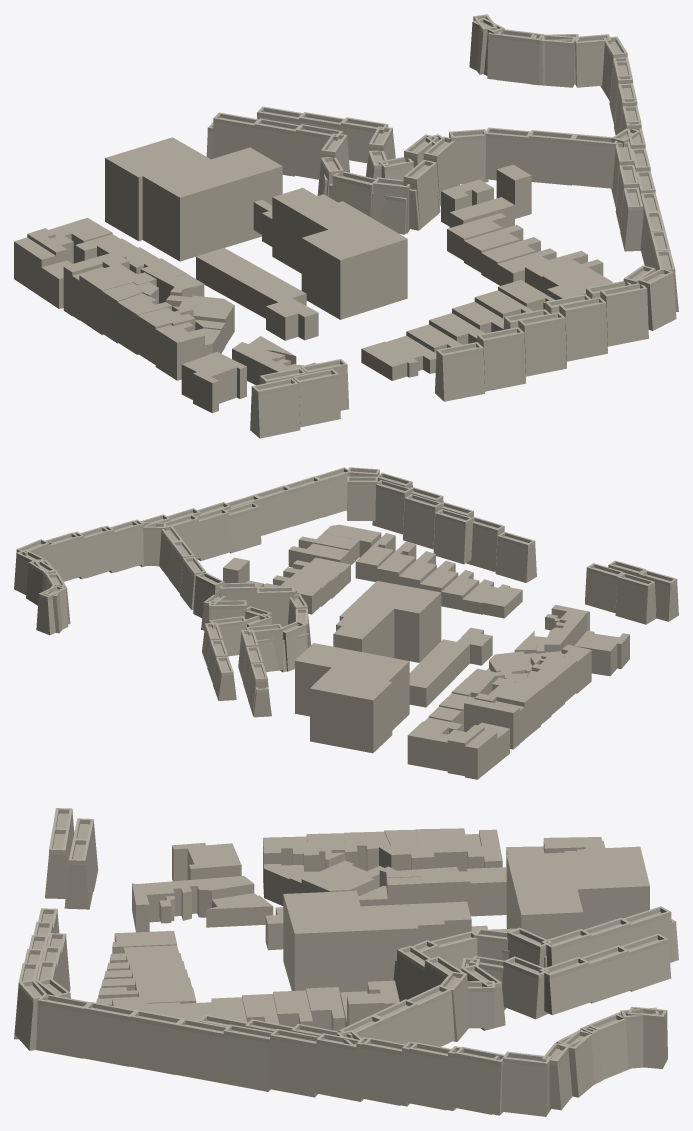
File: bormla_61_31_collision.glb
The picture shows the model from 3 angles, top to bottom: view 1: azimuth 30°, elevation 25°; view 2: azimuth 150°, elevation 25°; view 3: azimuth 270°, elevation 25°; orthographic projection. The views are drawn at different scales.
Parts seen in each view (by area): view 1: geometry_0; view 2: geometry_0; view 3: geometry_0.
Boxes of the visible parts, <box> form: geometry_0: <box>14,14,678,438</box>; geometry_0: <box>14,467,678,779</box>; geometry_0: <box>14,808,678,1116</box>.
Size of the model in its own units: 181 by 36.23 by 159.
